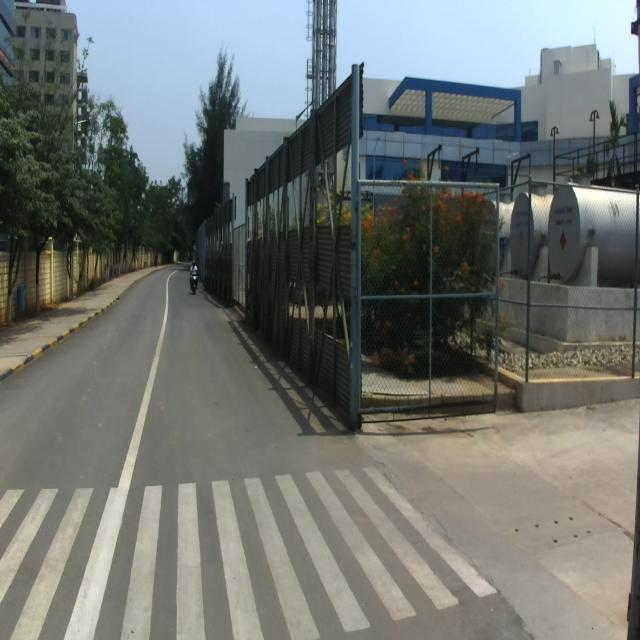gate ahead at: (243, 61, 359, 426)
zebra crossing ahead at: (0, 453, 500, 640)
